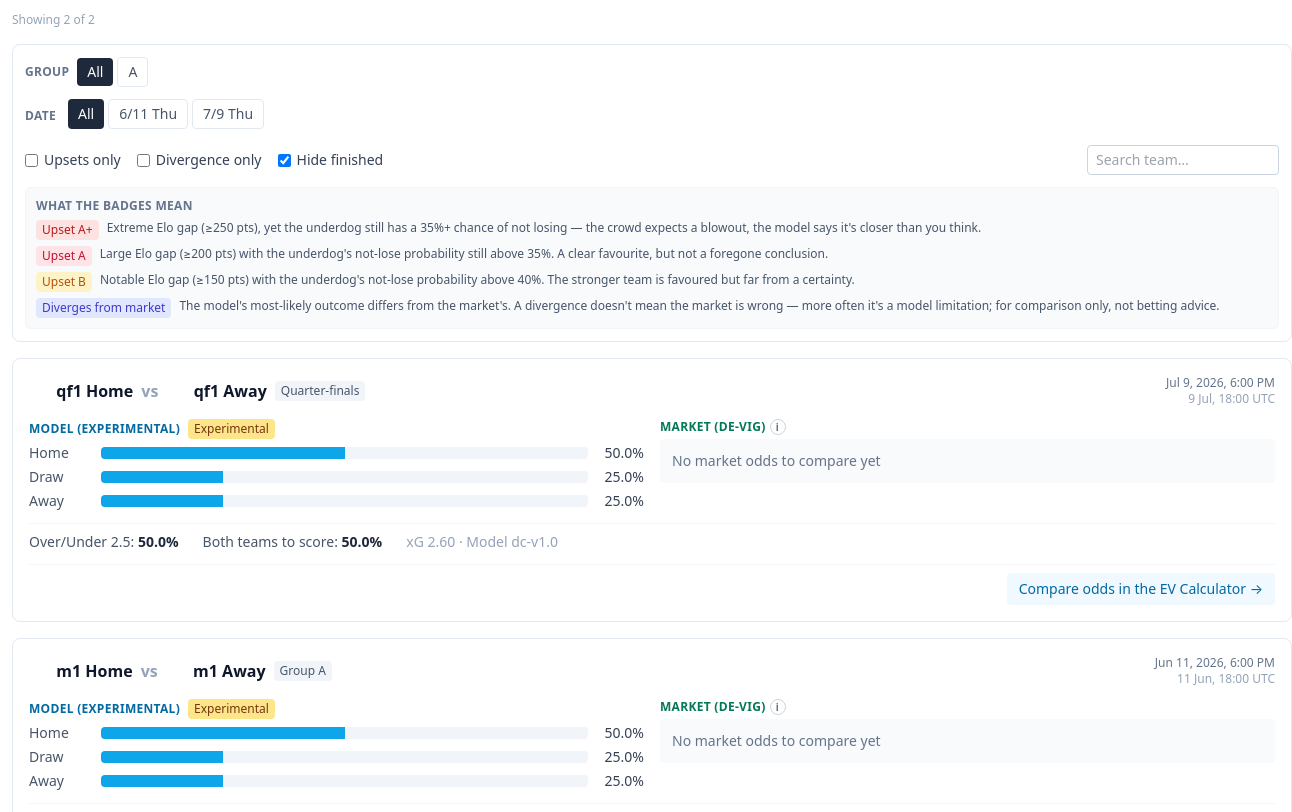
Test case: MatchFilters (client-side filter, Issue 7) › renders knockout rows (null group_label) with a stage badge (P17)
Expected: the text "Quarter-finals" is shown, top-left (275, 381), bottom-right (365, 401)
group filter still works and simply excludes the knockout row
Click the button "A" at (133, 72), box top-left (118, 57), bottom-right (148, 87)
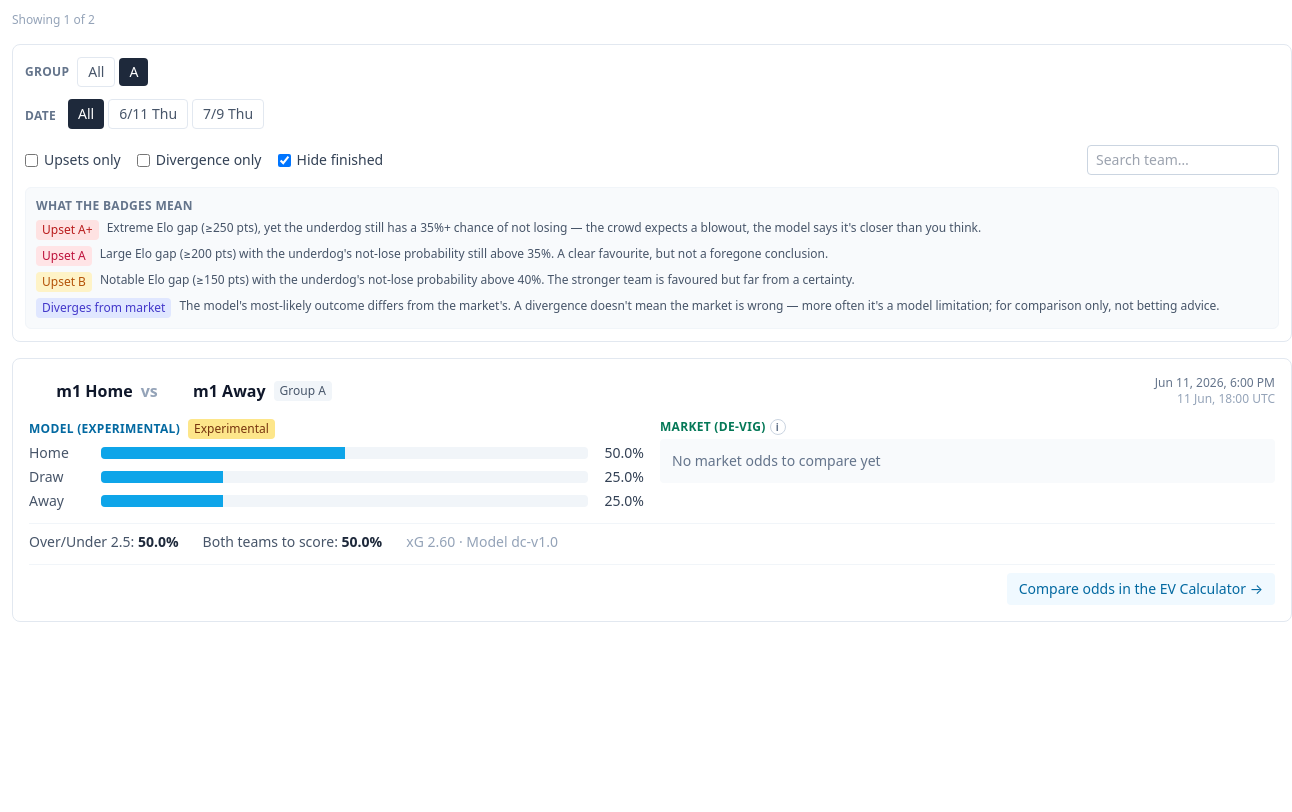
Expected: the text "Showing 1 of 2" is shown, top-left (12, 12), bottom-right (95, 28)
Expected: the text "Quarter-finals" is gone
